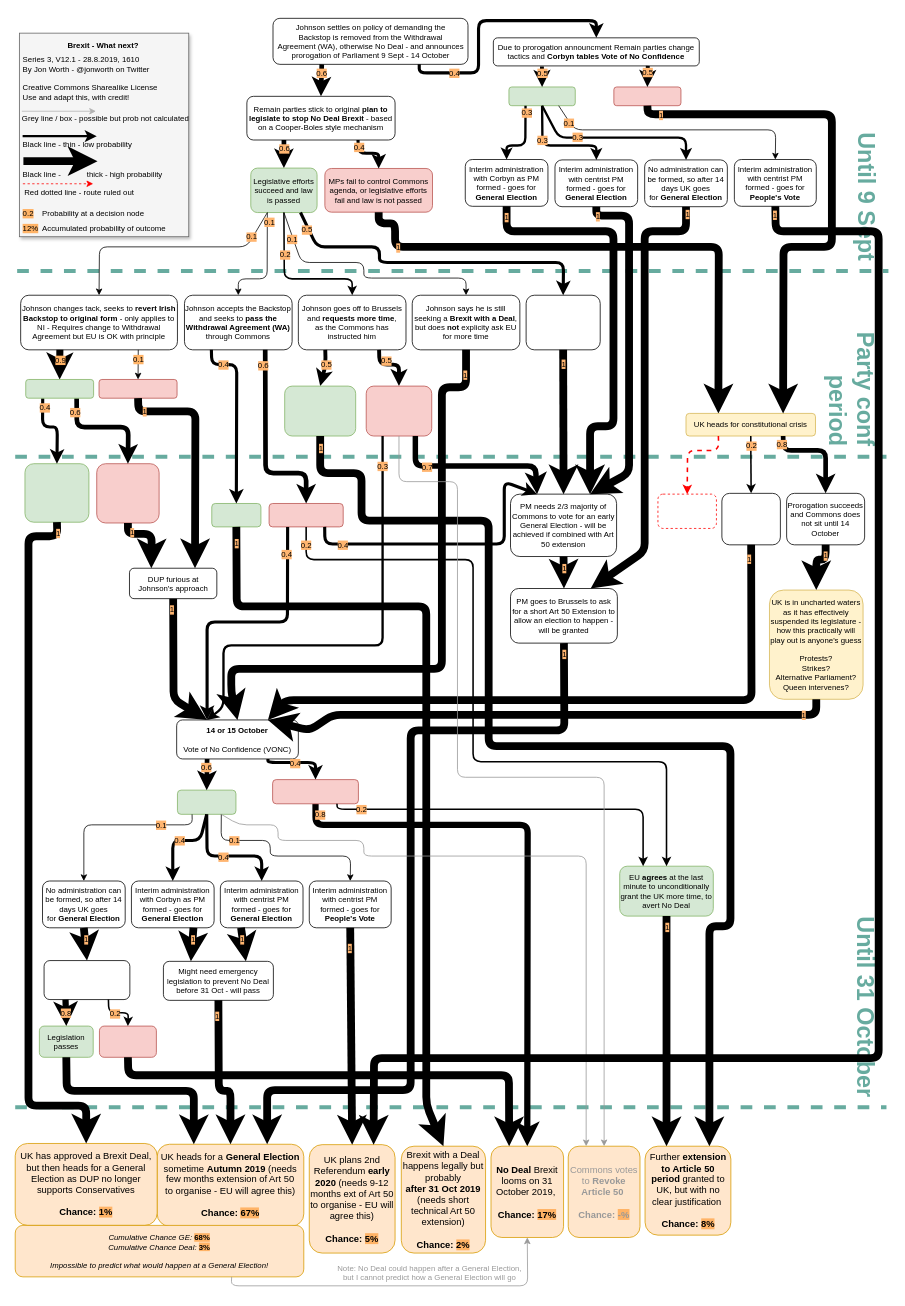
The diagram is 905 pixels wide and 1306 high, and some of its shapes have lost their labels. Each missing label, with the centre of its shape:
Commons votes against Deal with original backstop: the point at 127,493
Commons votes in favour of Deal with original backstop: the point at 56,492
EU agrees: the point at 59,388
EU agrees to unconditionally grant the UK more time: the point at 320,410
EU doesn't agree: the point at 137,388
EU refuses to unconditionally grant the UK more time: the point at 398,410
Legislation doesn't pass: the point at 127,1041
Maugham et al case succeeds to stop prorogation: the point at 750,519
Might need emergency legislation to prevent No Deal in washup: the point at 86,980
Queen refuses to prorogue: the point at 686,510
Seeing there is no support for his way forward, Johnson calls an election: the point at 562,322
VONC doesn't pass: the point at 315,791
VONC fails: the point at 647,96
VONC passes: the point at 206,801
VONC succeeds: the point at 541,96
WA doesn't pass: the point at 305,515
WA passes: the point at 236,515
